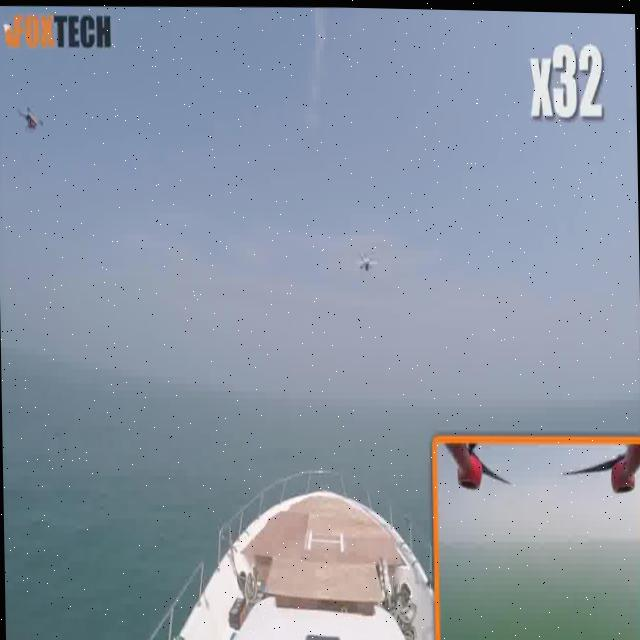drone: (7, 95, 53, 149), (349, 242, 384, 281)
